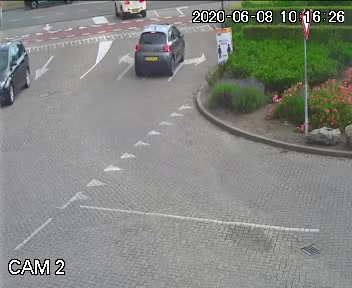car: (128, 16, 187, 82), (0, 34, 39, 111), (109, 0, 154, 22)
